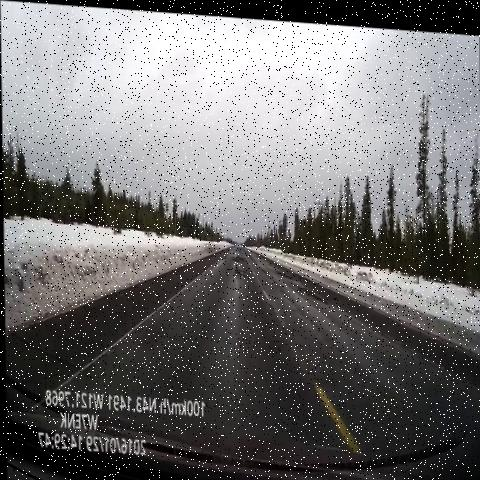pothole: (291, 274, 330, 309), (231, 259, 252, 283), (270, 263, 294, 282), (229, 241, 248, 263), (218, 244, 231, 260)
